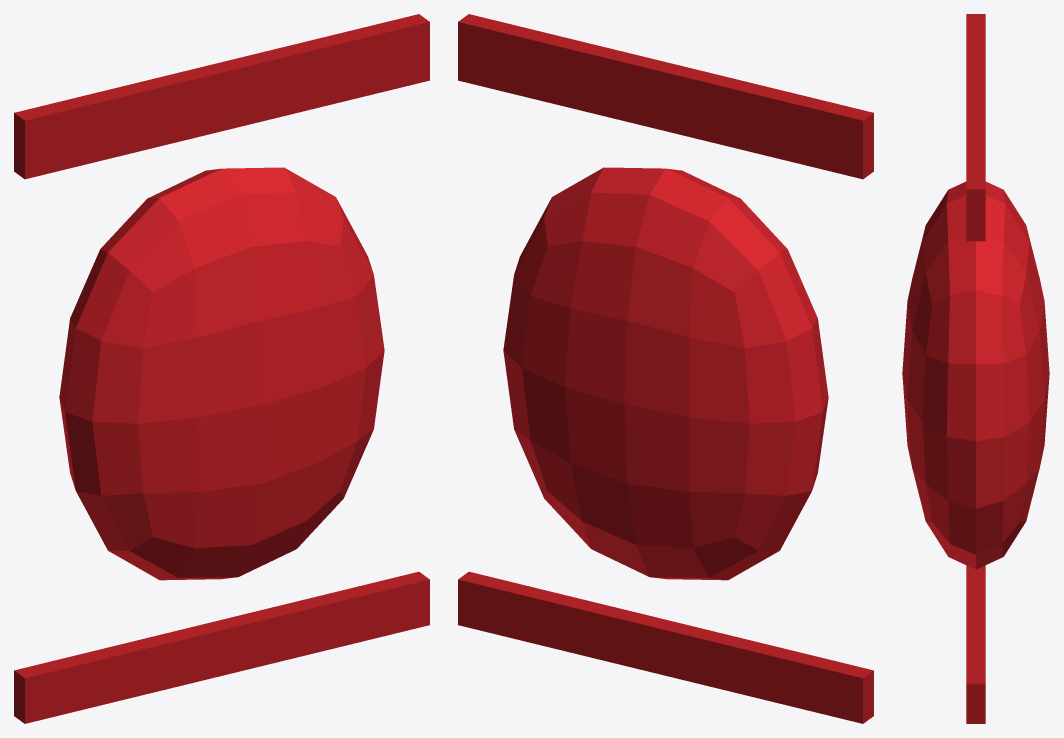
Rendered from Grocery_Snack_Bag.obj.
The picture shows the model from 3 angles, left to right: view 1: azimuth 30°, elevation 25°; view 2: azimuth 150°, elevation 25°; view 3: azimuth 270°, elevation 25°; orthographic projection. The views are drawn at different scales.
Parts seen in each view (by area): view 1: Cube, Cube.001, Cube.002; view 2: Cube, Cube.001, Cube.002; view 3: Cube, Cube.001, Cube.002.
Boxes of the visible parts, <box> form: Cube: <box>59,167,384,580</box>; Cube.001: <box>14,14,429,179</box>; Cube.002: <box>14,571,429,723</box>; Cube: <box>503,167,828,580</box>; Cube.001: <box>458,14,873,179</box>; Cube.002: <box>458,571,873,723</box>; Cube: <box>902,181,1049,569</box>; Cube.001: <box>966,14,985,241</box>; Cube.002: <box>966,565,985,723</box>.
Size of the model in its own units: 0.13 by 0.185 by 0.0462.
